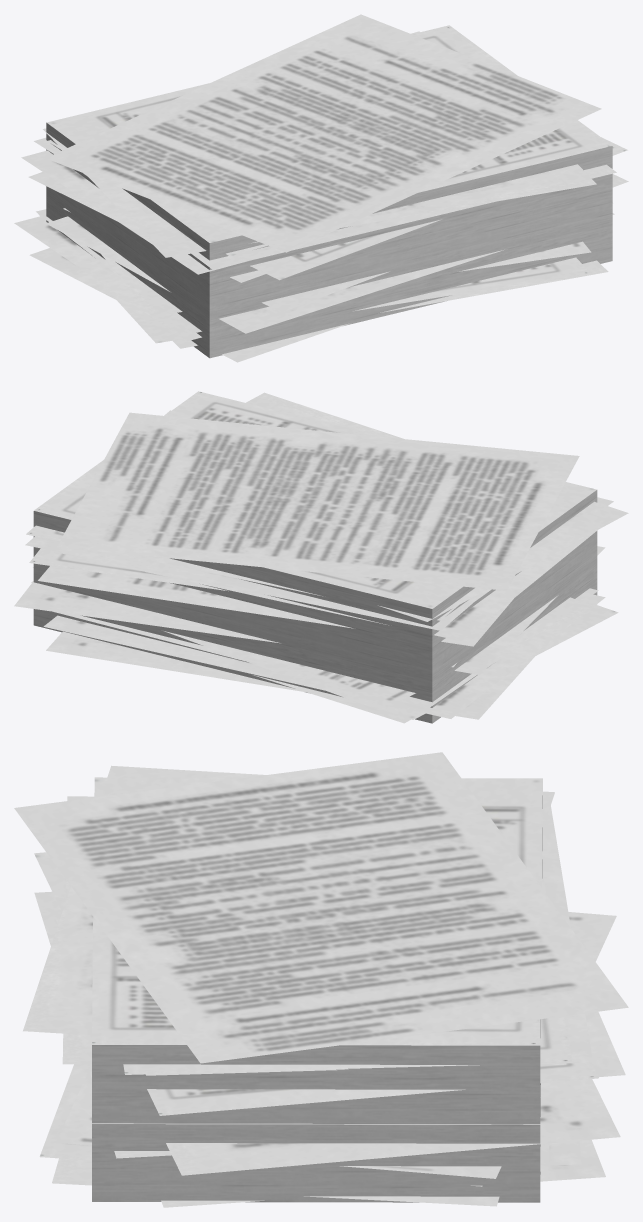
Rendered from Papeles3.fbx.
The picture shows the model from 3 angles, top to bottom: view 1: azimuth 30°, elevation 25°; view 2: azimuth 150°, elevation 25°; view 3: azimuth 270°, elevation 25°; orthographic projection. The views are drawn at different scales.
Parts seen in each view (by area): view 1: Papers; view 2: Papers; view 3: Papers.
Boxes of the visible parts, x1,y1,x2,y2 form: Papers: [14, 14, 628, 362]; Papers: [14, 391, 628, 723]; Papers: [14, 752, 628, 1207].
Size of the model in its own units: 774 by 175 by 618.
1 material, 1 textured.
